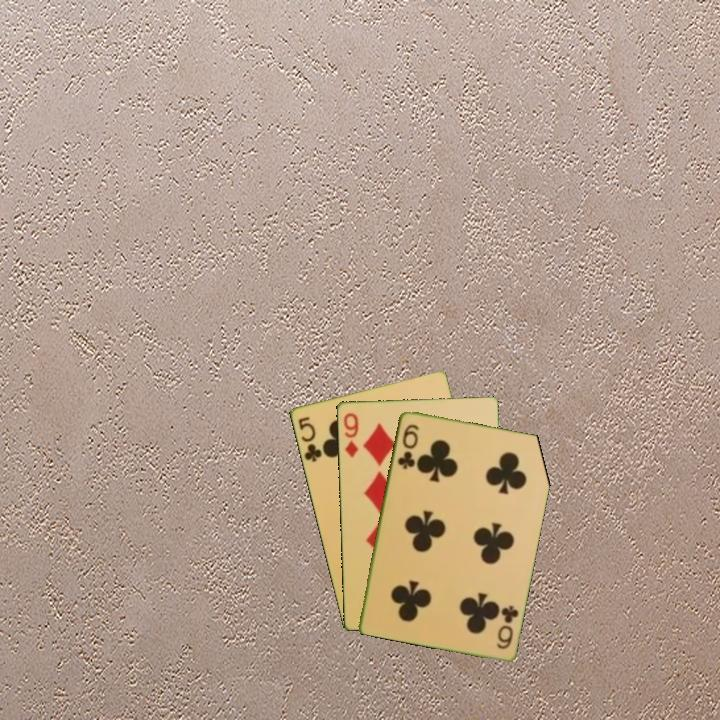5c: (294, 413, 324, 465)
6c: (493, 601, 521, 652), (394, 420, 421, 472)
9d: (340, 409, 361, 460)
